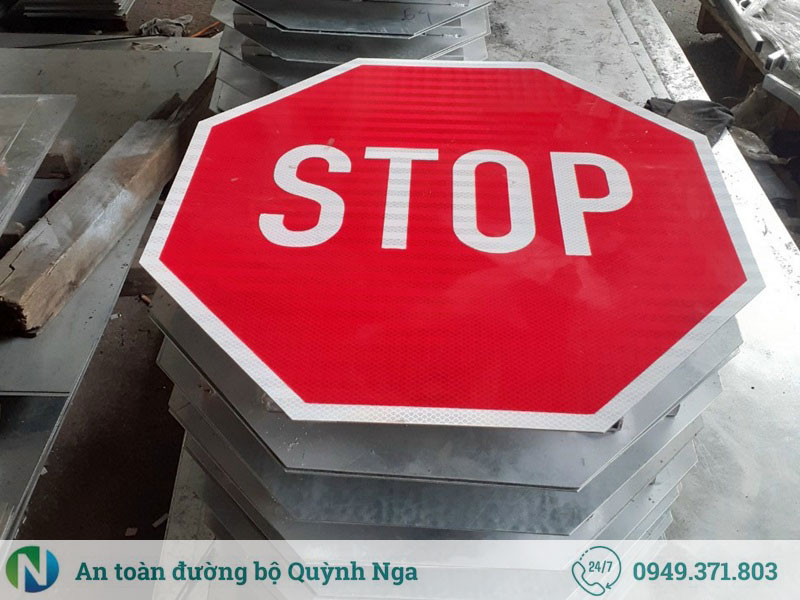Stop: (140, 51, 776, 437)
